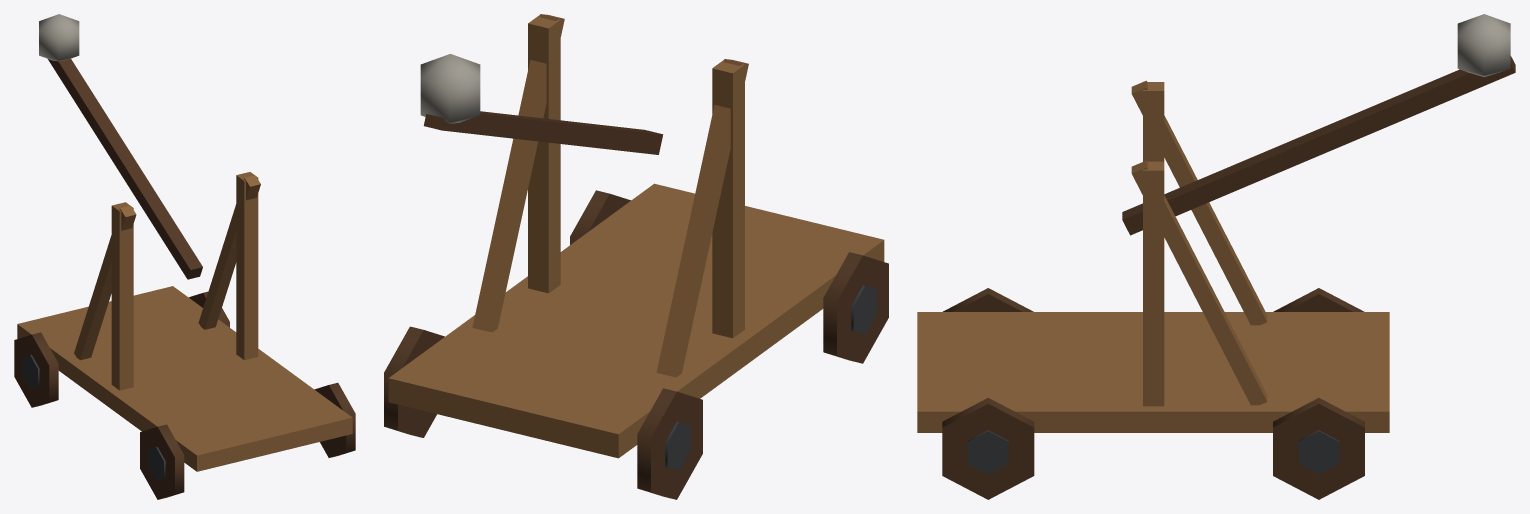
Rendered from unit_mil_catapult_a02_lod1.glb.
3 renders of one model, left to right at view 1: azimuth 30°, elevation 25°; view 2: azimuth 150°, elevation 25°; view 3: azimuth 270°, elevation 25°, orthographic. The views are drawn at different scales.
Parts seen in each view (by area): view 1: body, arm, wheel_0, wheel_2, wheel_3; view 2: body, arm, wheel_0, wheel_2, wheel_1, wheel_3; view 3: body, arm, wheel_3, wheel_1, wheel_0, wheel_2.
Boxes of the visible parts, x1,y1,x2,y2 form: body: (17,172,352,471); arm: (39,14,202,279); wheel_0: (14,332,58,407); wheel_2: (140,424,184,499); wheel_3: (314,382,355,457); body: (388,14,884,458); arm: (420,54,663,154); wheel_0: (637,388,702,499); wheel_2: (823,252,888,363); wheel_1: (384,326,444,437); wheel_3: (570,190,630,244); body: (917,80,1389,432); arm: (1122,14,1515,235); wheel_3: (942,397,1034,499); wheel_1: (1273,398,1364,499); wheel_0: (1273,288,1364,311); wheel_2: (943,288,1033,311).
Size of the model in its own units: 2.36 by 4 by 5.07.
